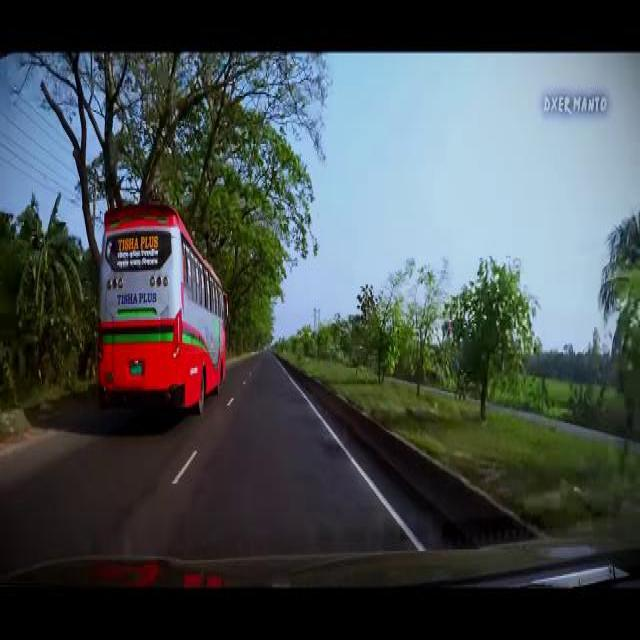Truck: (94, 200, 228, 422)
